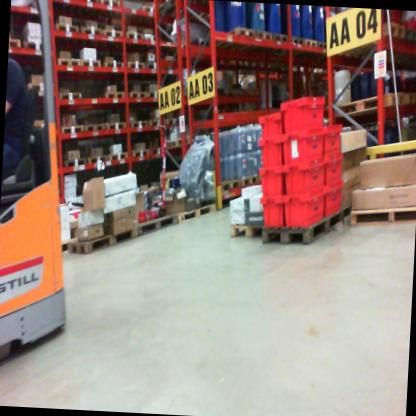pallet: (65, 198, 415, 263), (327, 80, 405, 117), (262, 211, 333, 251), (337, 17, 406, 58), (209, 18, 260, 61), (177, 193, 216, 237), (130, 205, 178, 235), (228, 221, 267, 254), (55, 117, 86, 141), (55, 49, 82, 75), (165, 130, 195, 153), (52, 16, 80, 39), (97, 0, 122, 24), (57, 86, 85, 106), (212, 170, 241, 189), (133, 3, 161, 22), (108, 144, 131, 167), (270, 28, 294, 50), (83, 118, 106, 140), (131, 141, 151, 166), (77, 23, 103, 42), (60, 150, 86, 168), (399, 26, 416, 52), (76, 0, 100, 18), (85, 152, 109, 169), (240, 172, 260, 191), (291, 28, 306, 53), (106, 117, 126, 135), (80, 56, 107, 69), (52, 0, 77, 14), (144, 29, 163, 47), (146, 89, 167, 105), (128, 117, 149, 133), (104, 58, 126, 73), (27, 82, 46, 99), (122, 28, 145, 42), (253, 29, 274, 44), (404, 83, 416, 109), (128, 88, 147, 104), (26, 39, 46, 54), (103, 26, 123, 41), (143, 60, 164, 73), (304, 34, 317, 54), (103, 90, 126, 101), (151, 143, 165, 160), (316, 35, 329, 53), (126, 59, 143, 72), (148, 118, 166, 128), (9, 38, 21, 49)
small_load_carrier: (275, 89, 329, 140), (280, 184, 329, 237), (279, 120, 326, 162), (281, 162, 327, 197), (256, 195, 288, 236), (252, 107, 283, 144), (319, 120, 345, 160), (324, 178, 344, 225), (321, 146, 344, 186), (258, 160, 283, 196), (256, 138, 283, 167)
